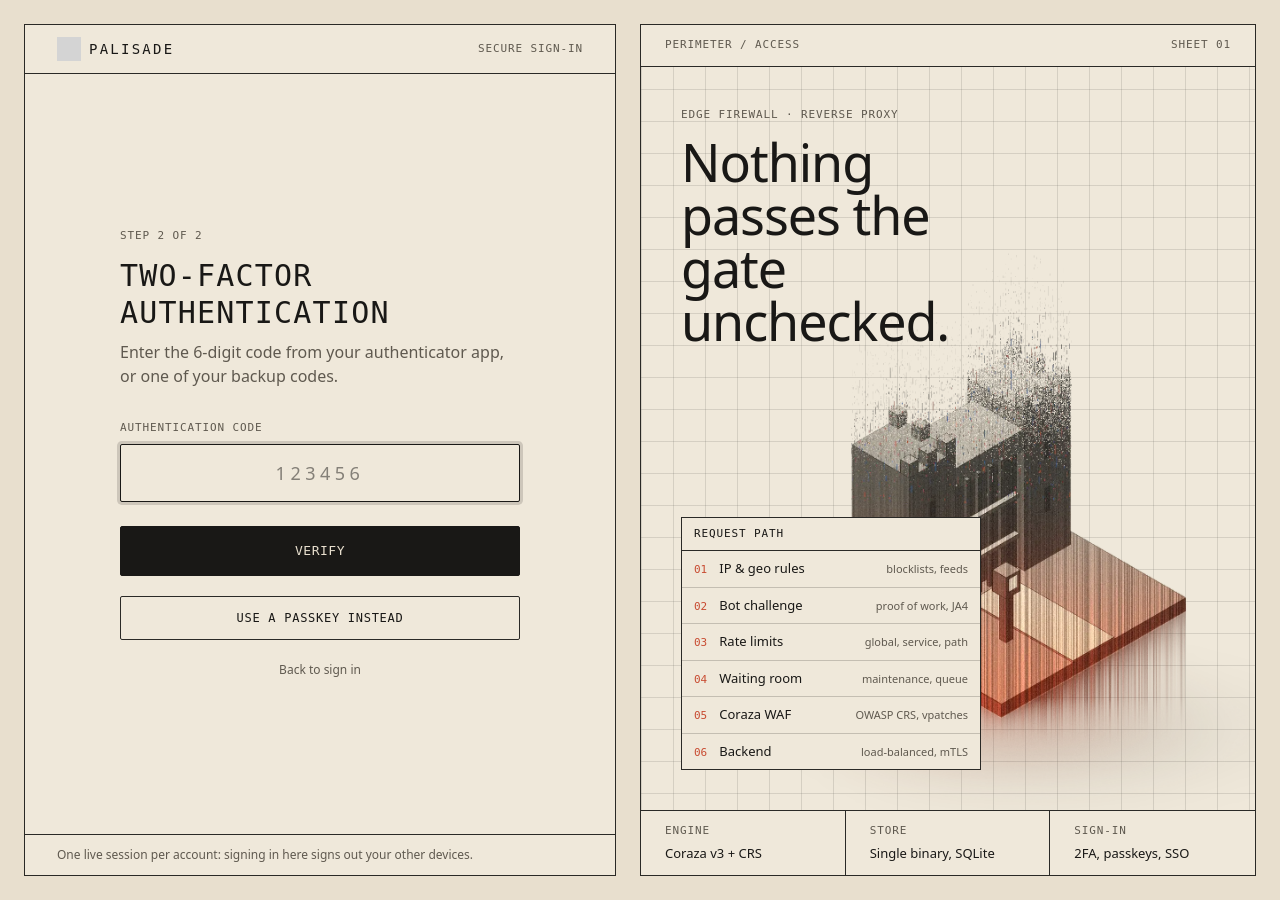
Scenario: login page › shows a failed passkey sign-in
This screenshot has width=1280, height=900.
Click the button "Use a passkey instead": (320, 618) [120,596,520,640]
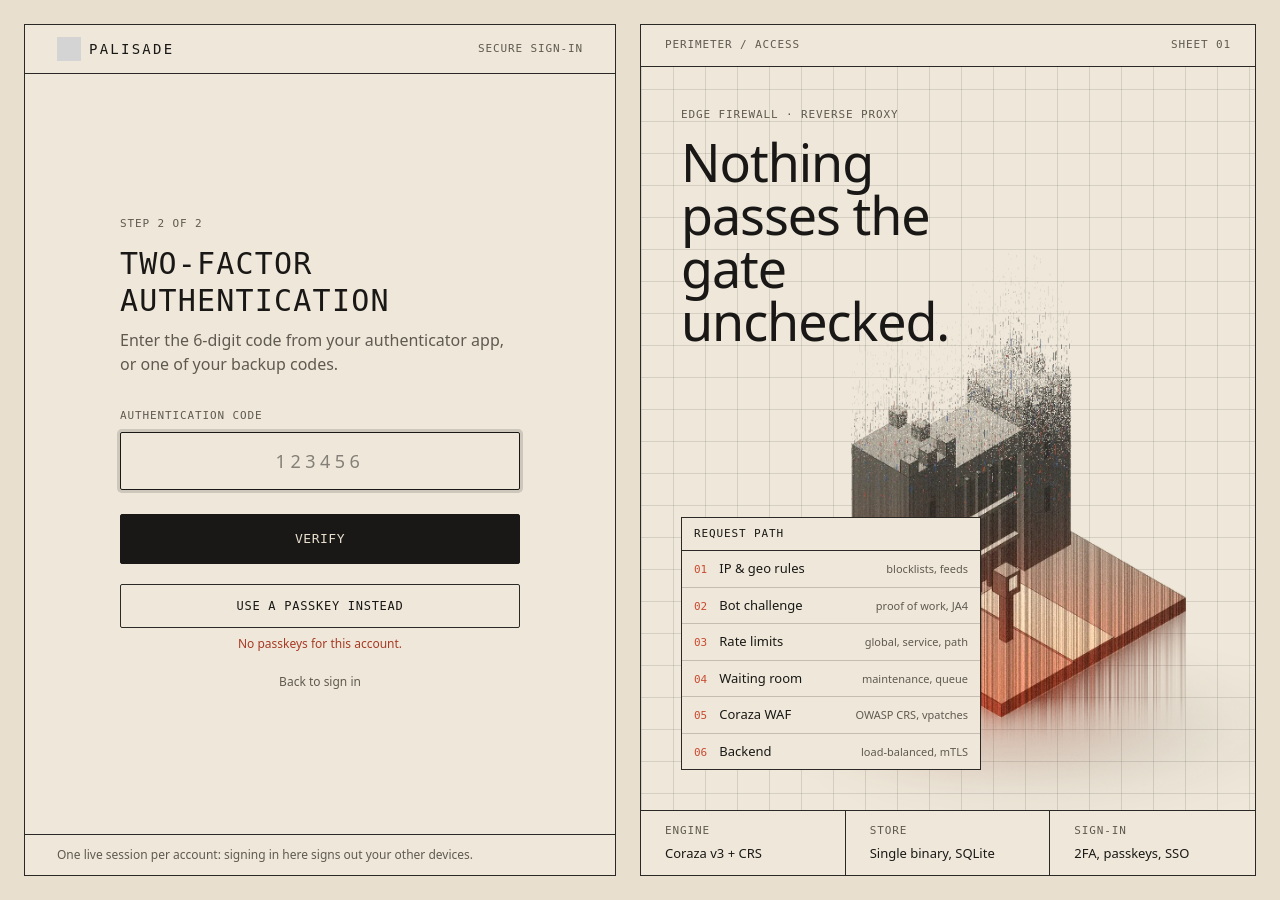
Check: the message reads "No passkeys for this account.", box [238,635,402,652]
